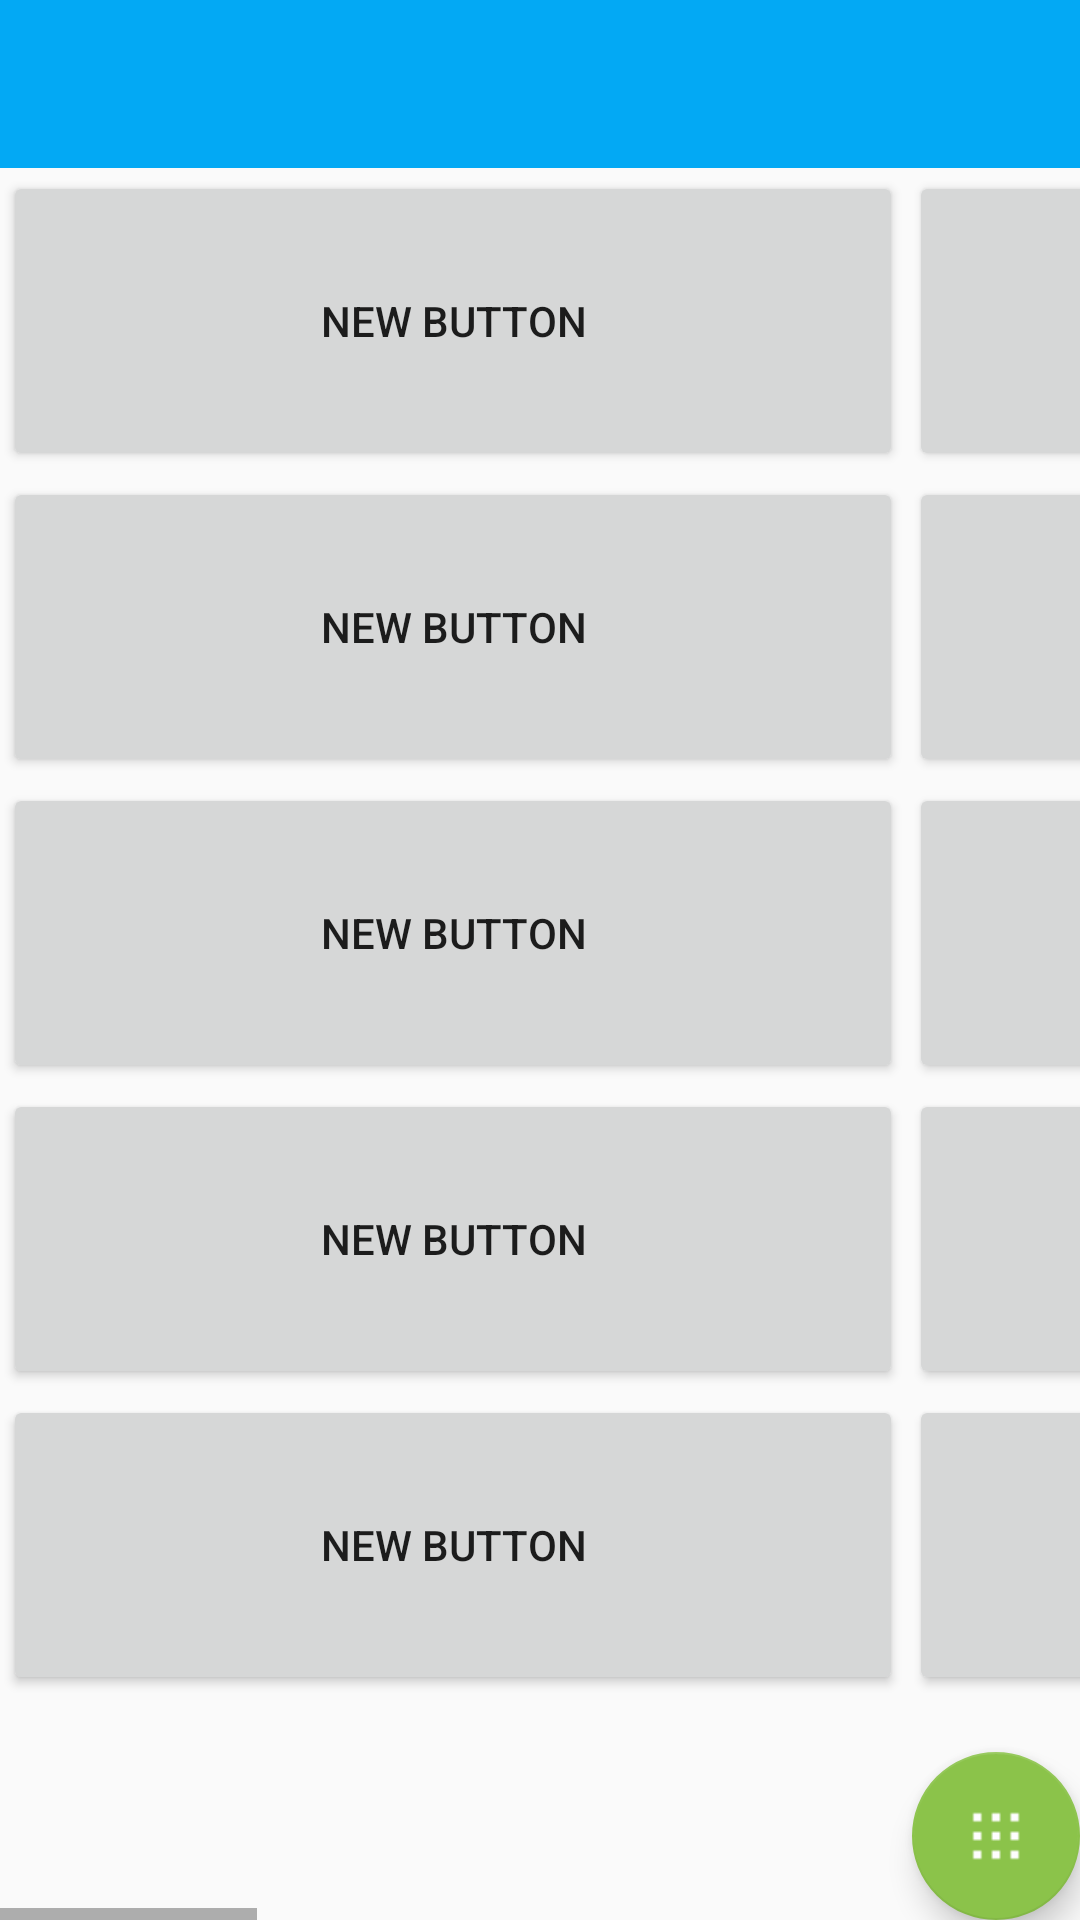

Screen size 1080×1920. Icon name, then its box in pixels as (x1=x1, y1=y1, x2=x2, y2=y2):
overview: (x1=912, y1=1752, x2=1080, y2=1920)
